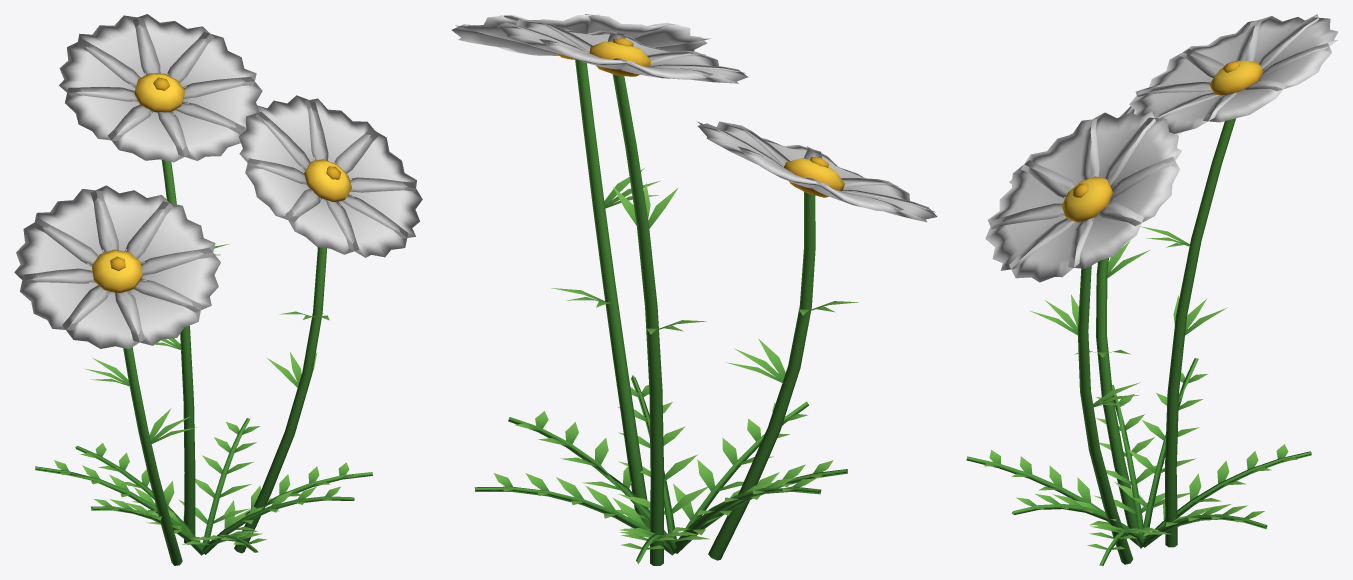
File: flower_cosmos.glb
The picture shows the model from 3 angles, left to right: view 1: azimuth 30°, elevation 25°; view 2: azimuth 150°, elevation 25°; view 3: azimuth 270°, elevation 25°; orthographic projection. The views are drawn at different scales.
Visible parts, largest first — view 1: flower_cosmos_top, flower_cosmos; view 2: flower_cosmos, flower_cosmos_top; view 3: flower_cosmos_top, flower_cosmos.
Part boxes in pixels (box(x1,y1,x2,y2)): flower_cosmos_top: box(14, 14, 422, 349); flower_cosmos: box(35, 73, 372, 565); flower_cosmos: box(474, 38, 858, 565); flower_cosmos_top: box(451, 14, 937, 222); flower_cosmos_top: box(985, 14, 1337, 282); flower_cosmos: box(966, 60, 1311, 565).
Bounding box in the file's own units: 0.3854 × 0.4606 × 0.3025.
